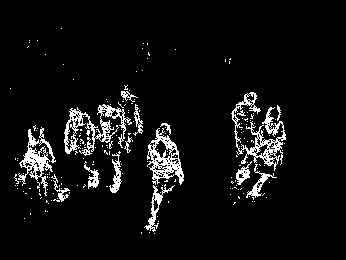person: (147, 122, 184, 233), (23, 126, 62, 206), (231, 89, 262, 188), (253, 105, 286, 198), (65, 109, 99, 190), (96, 104, 124, 195), (117, 86, 143, 154)
